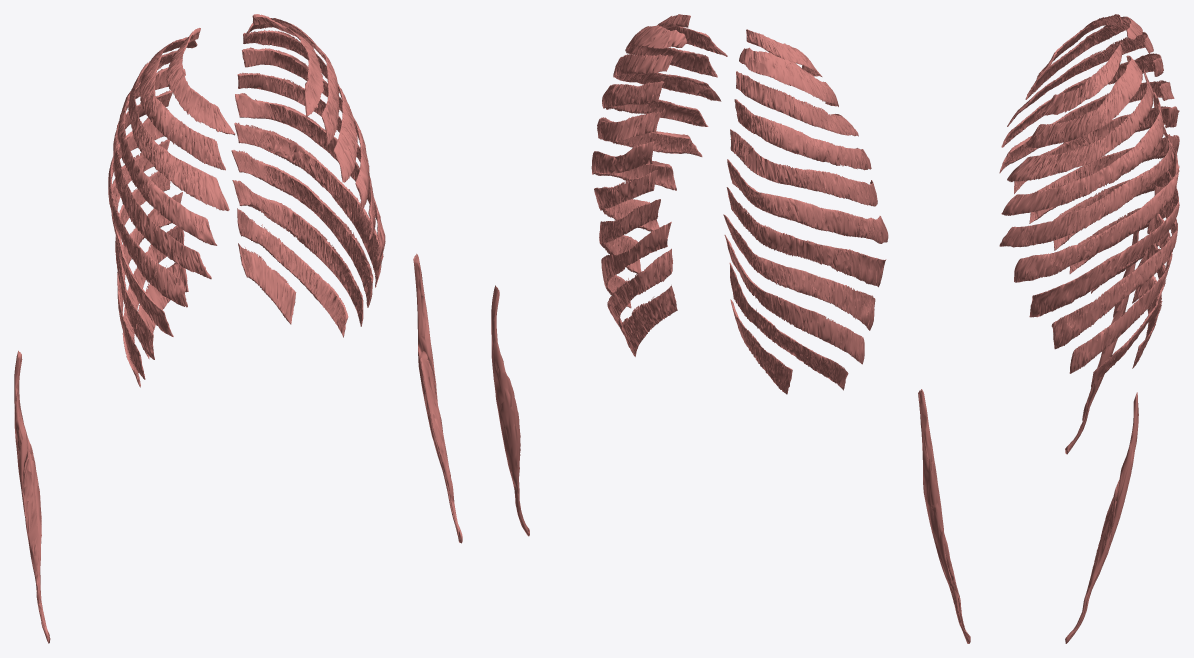
File: muscles-01.glb
3 views of the same model, side by side, from view 1: azimuth 30°, elevation 25°; view 2: azimuth 150°, elevation 25°; view 3: azimuth 270°, elevation 25° (orthographic). The views are drawn at different scales.
Visible parts, largest first — view 1: FMA9756, BP47, BP44, BP46, BP45; view 2: FMA9756, BP44, BP45; view 3: FMA9756, BP44, BP46, BP45.
Part boxes in pixels (x1,y1,x2,y2): FMA9756: (108,14,385,387); BP47: (23,447,49,636); BP44: (413,253,462,543); BP46: (420,351,458,536); BP45: (14,350,50,643); FMA9756: (591,14,888,394); BP44: (491,285,529,536); BP45: (918,389,970,643); FMA9756: (999,14,1179,387); BP44: (1065,392,1138,643); BP46: (1071,480,1119,636); BP45: (1065,231,1138,454).
Size of the model in its own units: 0.475 by 0.6011 by 0.1888.
